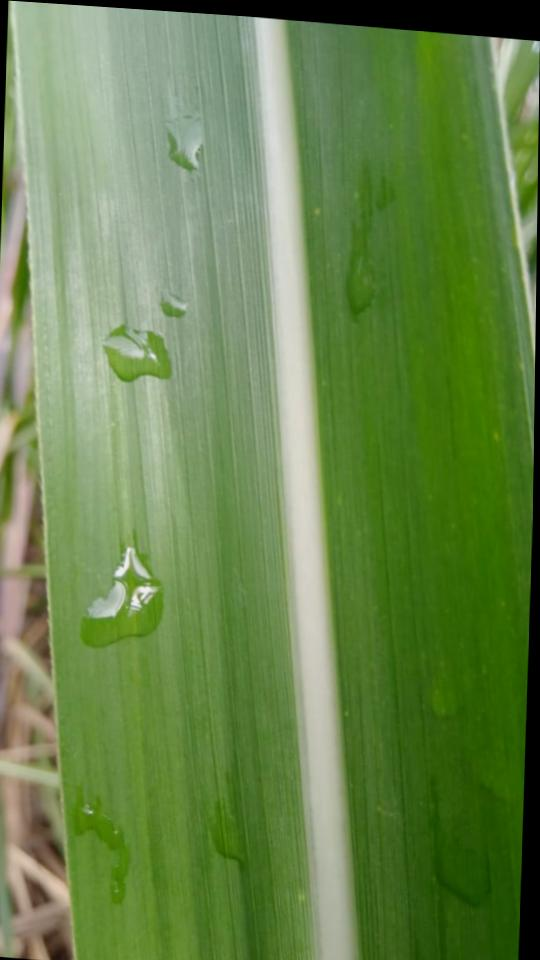Healthy: (10, 1, 535, 960)
